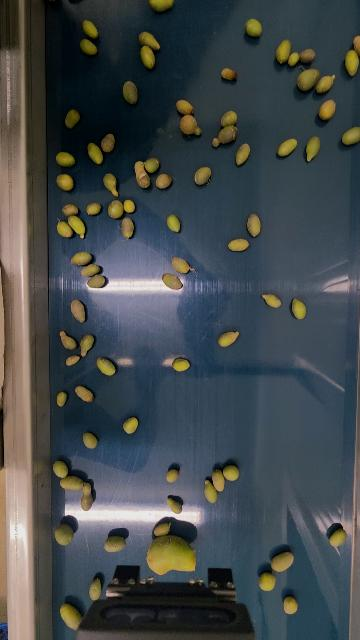Baby Potato: (139, 535, 200, 576), (178, 113, 205, 137), (170, 254, 198, 276), (209, 127, 241, 145), (297, 66, 320, 91), (131, 161, 151, 189), (84, 141, 107, 165), (270, 551, 297, 571), (340, 50, 360, 76), (318, 96, 337, 122), (276, 37, 292, 67), (161, 272, 185, 292), (312, 74, 337, 93), (69, 298, 88, 323), (61, 604, 80, 629), (95, 356, 116, 378), (139, 31, 162, 51), (68, 213, 85, 240), (278, 137, 299, 158), (55, 171, 74, 194), (305, 135, 321, 162), (215, 330, 239, 348), (282, 593, 300, 617), (340, 122, 360, 143), (260, 290, 282, 309), (291, 297, 307, 323), (82, 20, 101, 41), (259, 571, 278, 592), (139, 47, 157, 69), (103, 173, 120, 196), (56, 524, 73, 547), (79, 333, 95, 357), (87, 575, 102, 600), (245, 16, 262, 38), (121, 80, 137, 103), (105, 537, 128, 553), (81, 483, 94, 511), (220, 109, 239, 128), (57, 150, 76, 169), (193, 165, 211, 185), (235, 143, 250, 167), (213, 465, 225, 494), (247, 214, 262, 237), (167, 213, 182, 236), (329, 528, 346, 548), (204, 479, 217, 505), (60, 331, 76, 352), (222, 463, 241, 480), (99, 132, 115, 152), (108, 199, 124, 219), (72, 251, 92, 267), (167, 497, 184, 515), (63, 110, 79, 129), (155, 171, 171, 190), (75, 386, 94, 402), (81, 431, 97, 450), (59, 477, 84, 489), (120, 216, 133, 239), (80, 264, 101, 278), (150, 0, 174, 12), (56, 220, 72, 238), (172, 357, 190, 373), (52, 461, 68, 479), (79, 40, 98, 55), (154, 521, 173, 536), (229, 238, 249, 252), (62, 204, 81, 218), (123, 417, 138, 434), (177, 99, 195, 113), (298, 46, 313, 62), (85, 276, 106, 287), (350, 34, 360, 57), (86, 202, 102, 216), (55, 392, 69, 408), (289, 49, 300, 69), (63, 354, 81, 366), (145, 158, 160, 172), (167, 470, 180, 484), (221, 69, 236, 81), (124, 196, 134, 214)
